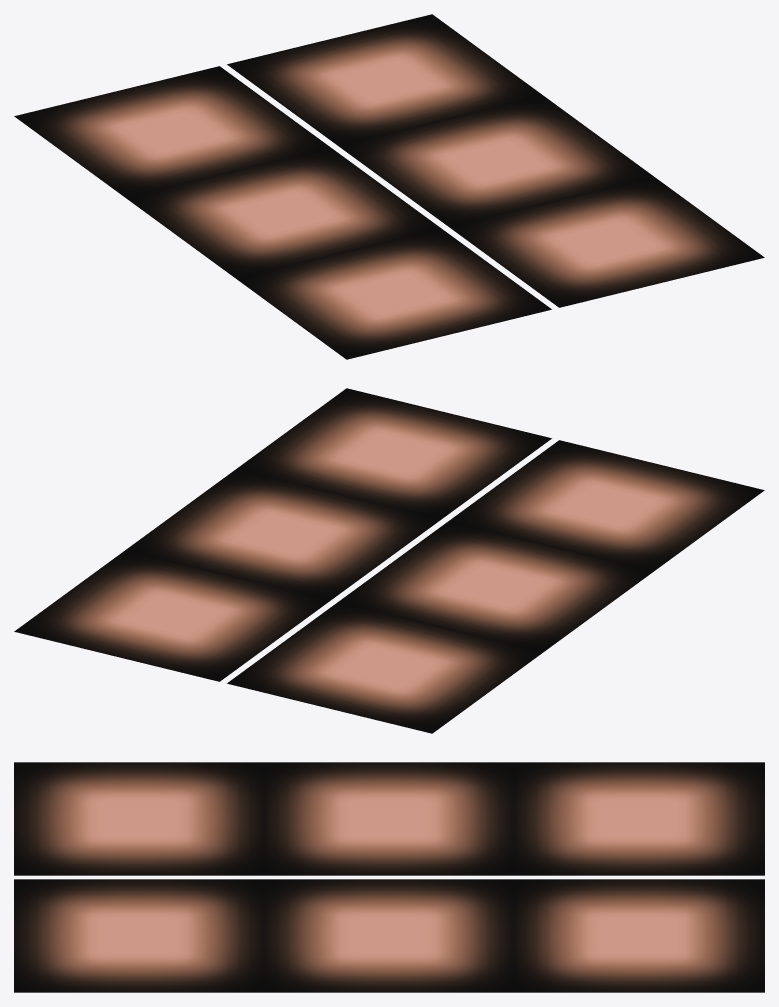
Rendered from EP1_windowLight01.fbx.
3 views of the same model, one above another, from view 1: azimuth 30°, elevation 25°; view 2: azimuth 150°, elevation 25°; view 3: azimuth 270°, elevation 25° (orthographic). The views are drawn at different scales.
Parts seen in each view (by area): view 1: window_light; view 2: window_light; view 3: window_light.
Part boxes in pixels (<box>): window_light: <box>14,14,764,359</box>; window_light: <box>14,388,764,733</box>; window_light: <box>14,762,764,992</box>.
Size of the model in its own units: 0.5902 by 0 by 0.813.
